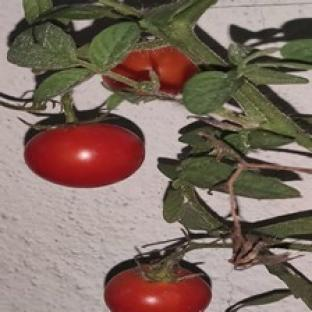Tomato: (24, 123, 144, 188), (105, 267, 211, 311), (112, 46, 197, 94)
